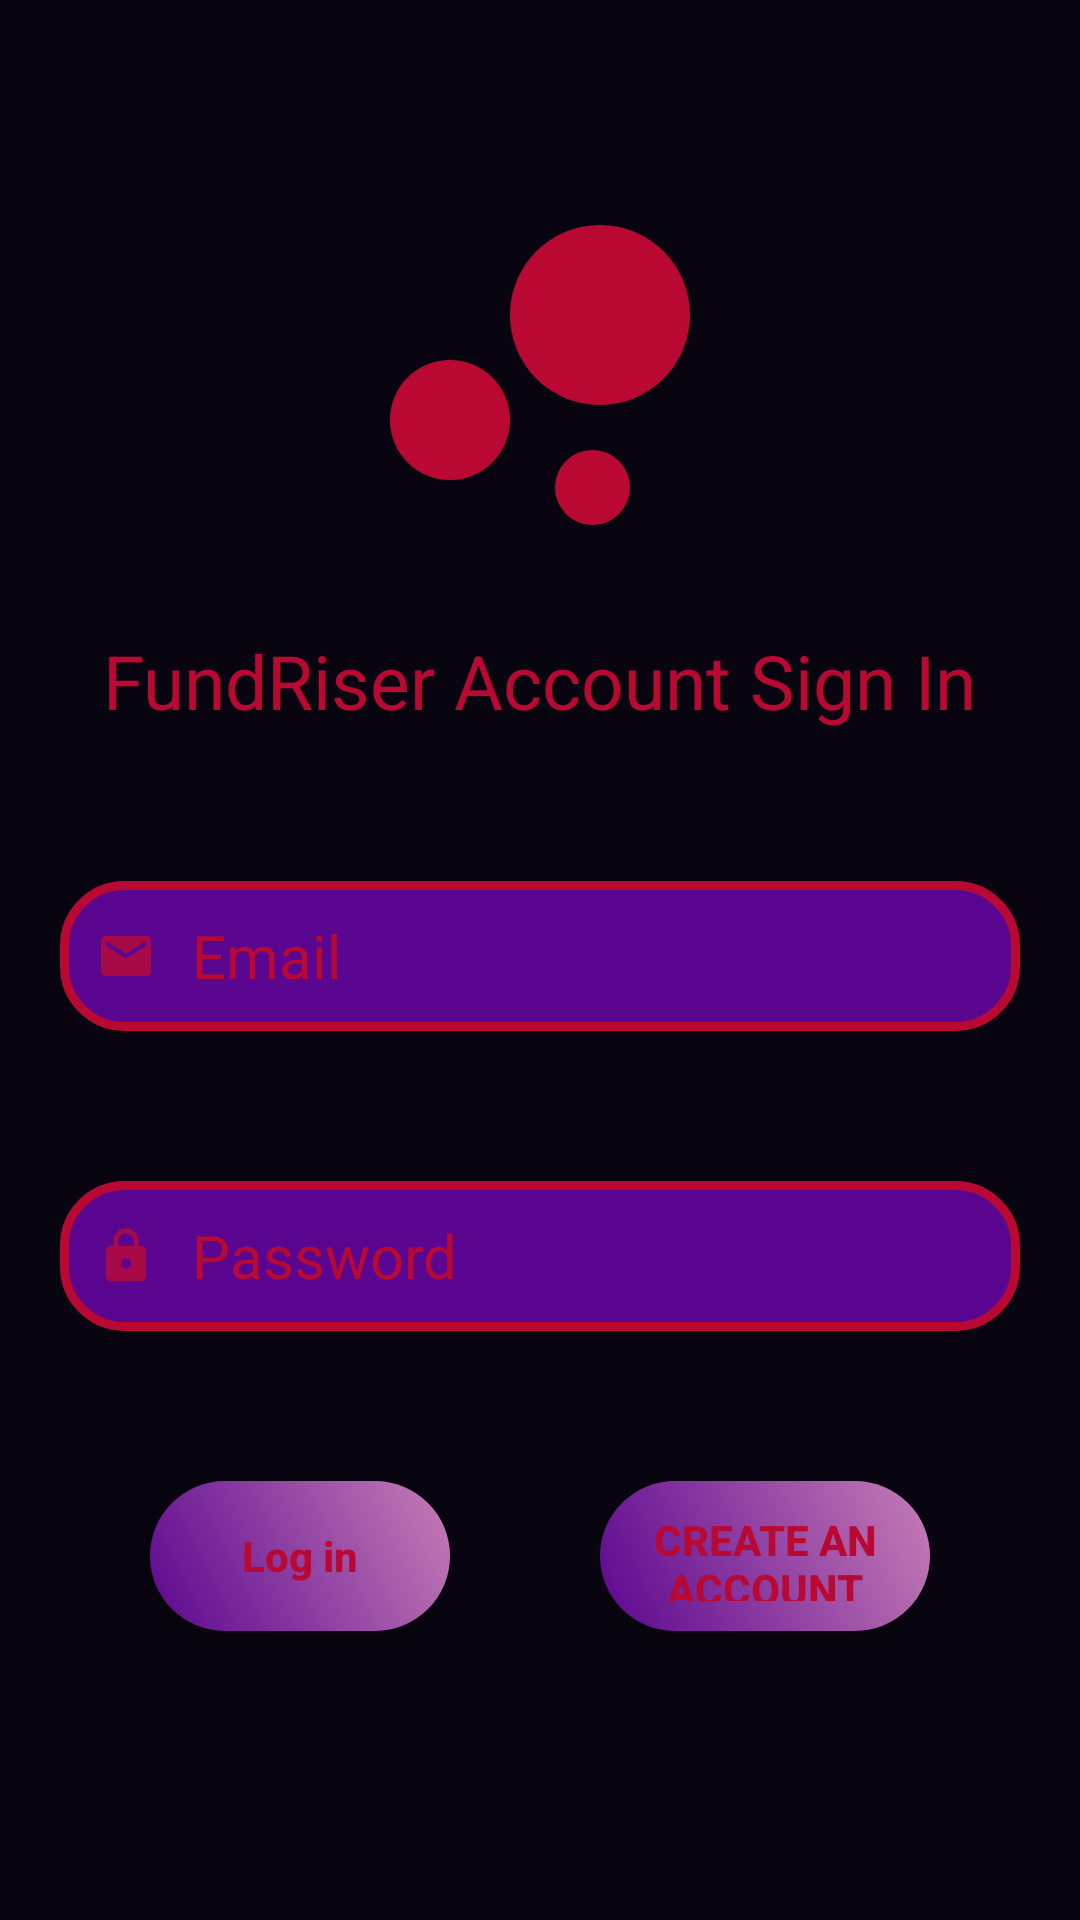

Icons on this 1080x1920 Android screen, each with its box as [x1,y1,x2,y2]:
bubble chart: [390,225,690,525]
